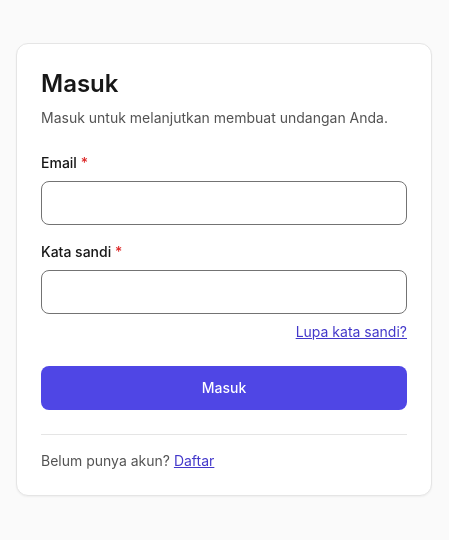
Test: error states (card step 5) › shows one message for wrong credentials, in a live region
Type "budi@example.test" into the field labelled "Email *" at (224, 202), box [41,180,407,224]
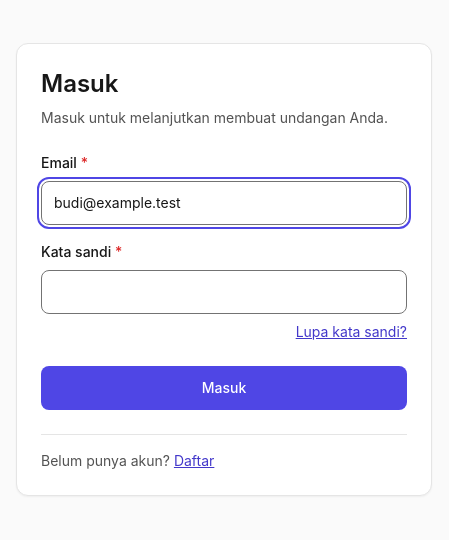
Type "salah" into the password field labelled "Kata sandi *" at (224, 292), box [41,270,407,314]
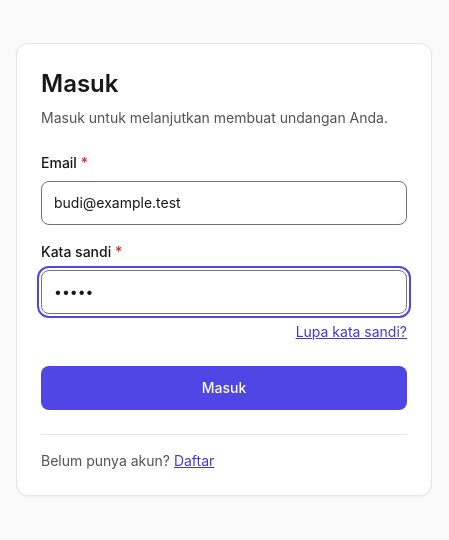
Click the button "Masuk" at (224, 388), box [41,366,407,410]
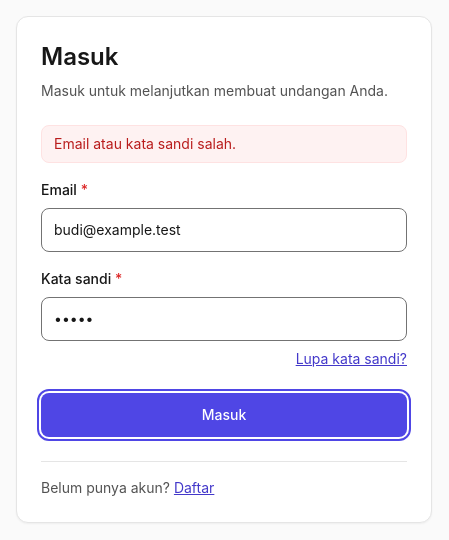
expect the message shows "Email atau kata sandi salah": met, box [54,134,236,152]
